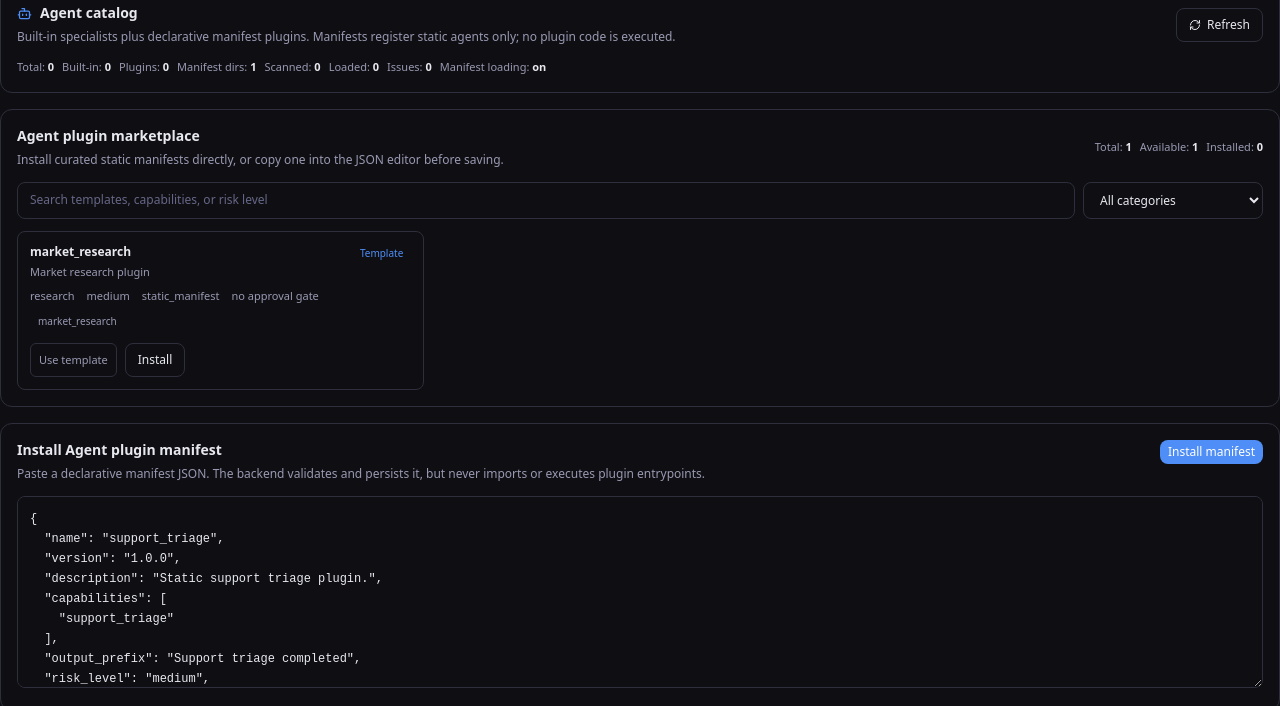
AgentCatalogPanel › installs marketplace Agent plugin templates directly
Expected: the element with test id "settings-agent-plugin-marketplace" is shown, [0,108,1279,407]
What coordinates should you click on to do the following:
click the button with test id "settings-agent-plugin-template-use-market_research"
I would click on:
 (73, 360)
Its box is [30,343,117,377].
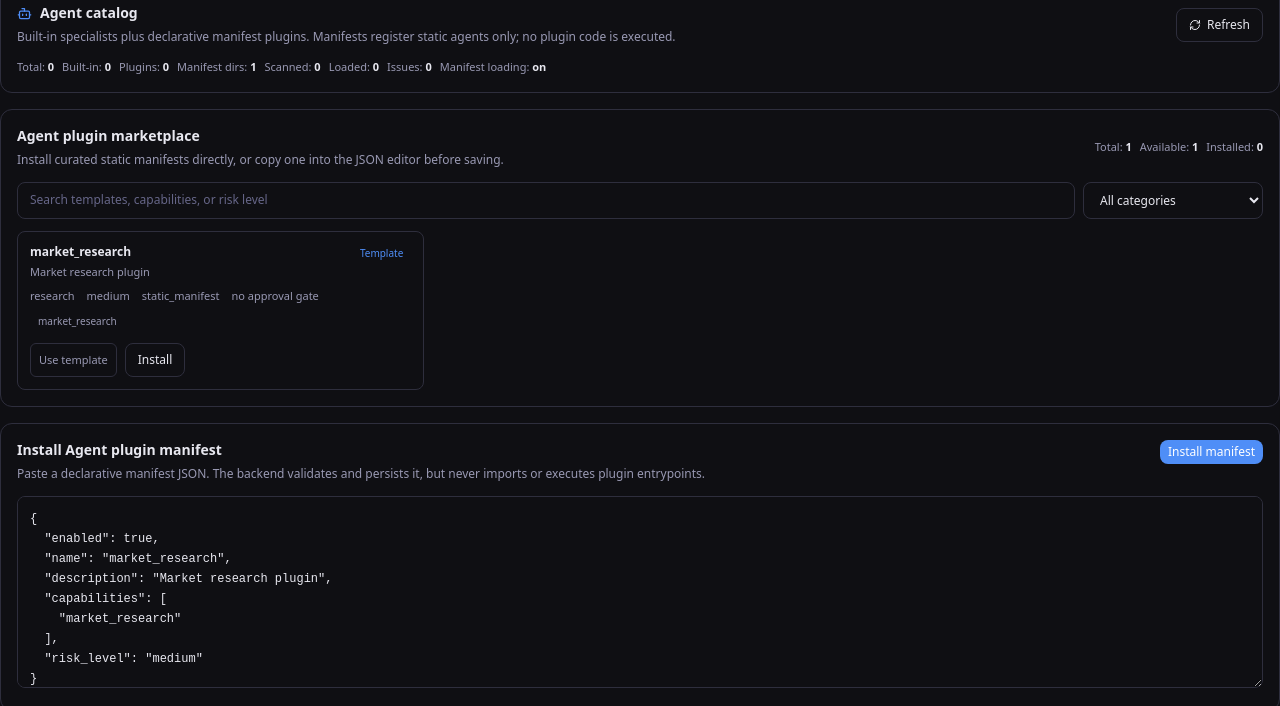
What coordinates should you click on to do the following:
click the button with test id "settings-agent-plugin-template-install-market_research"
I would click on:
 (155, 360)
Its box is [125,343,185,377].
(page scrolled)
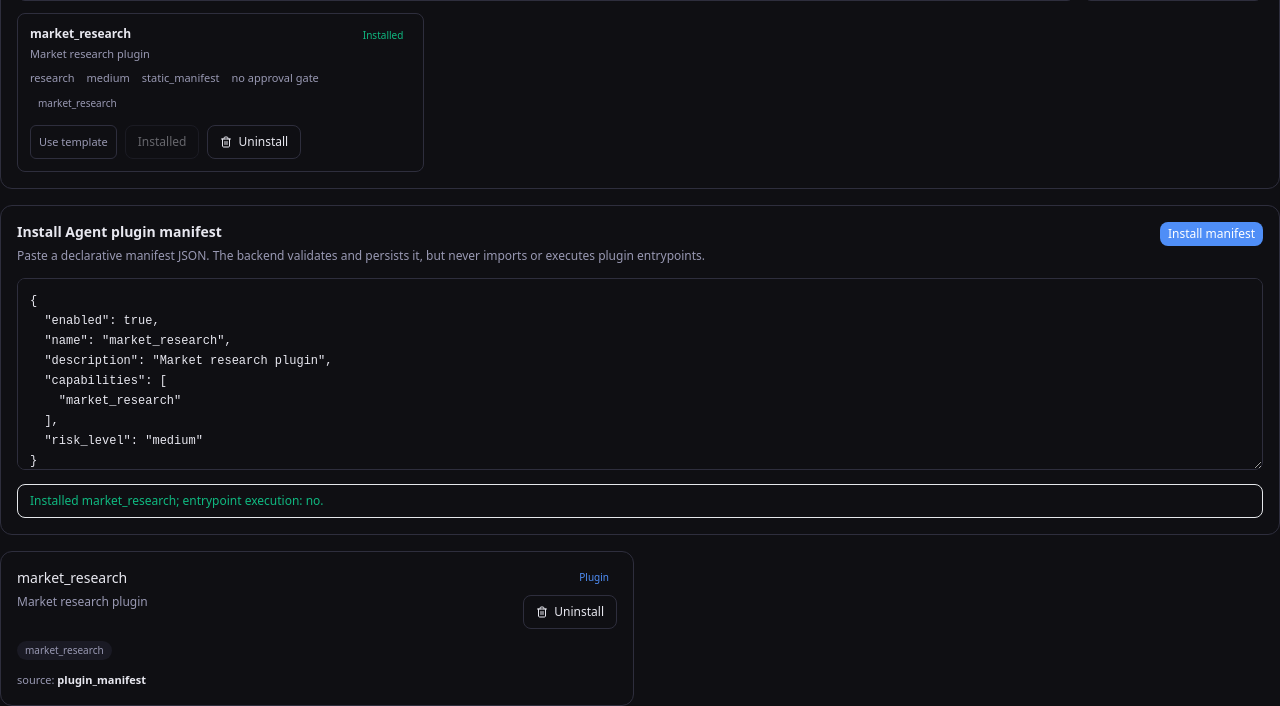
Expected: the text with test id "settings-agent-plugin-install-success" reads "Installed market_research; entrypoint execution: no.", [30,492,324,509]
